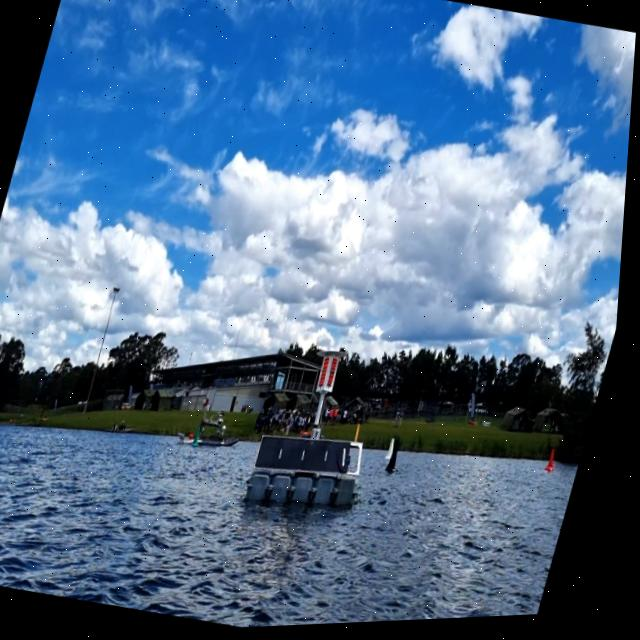led: (329, 359, 345, 391), (322, 360, 336, 391)
